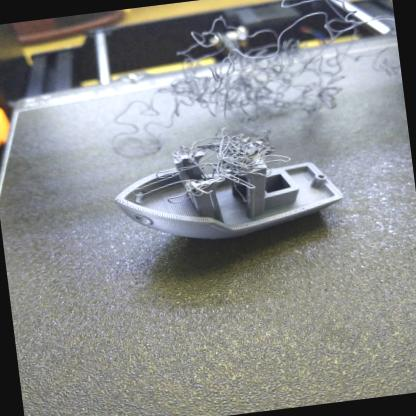fail: (118, 21, 353, 131), (166, 126, 295, 209)
